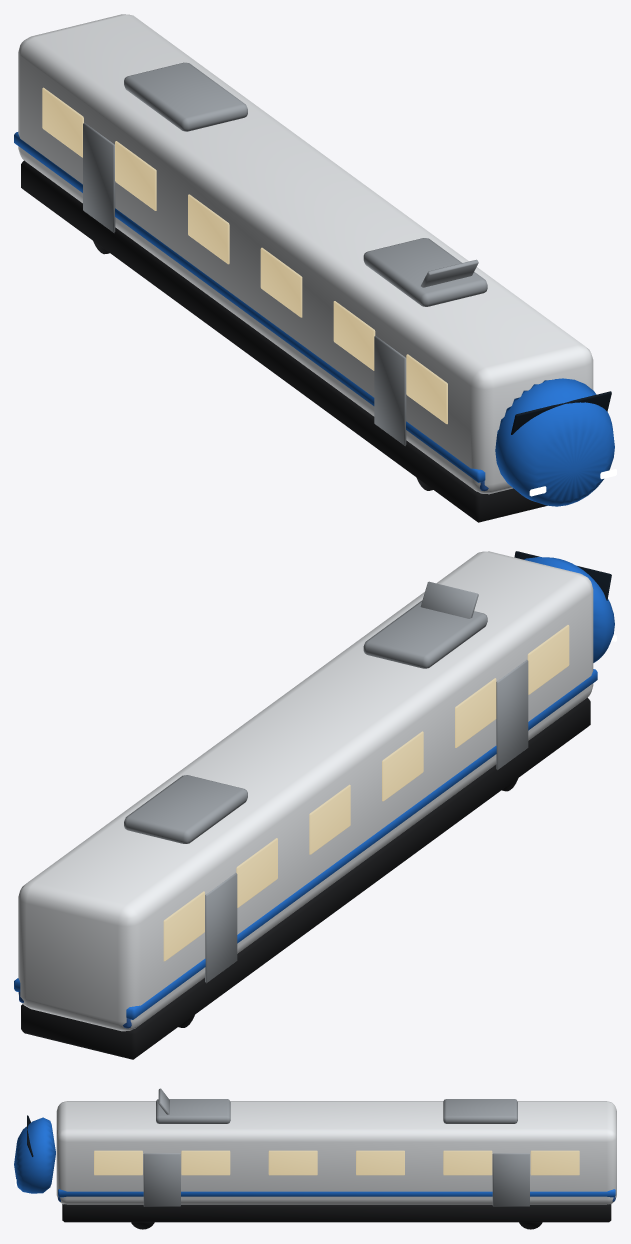
Rendered from metro_front.glb.
The picture shows the model from 3 angles, top to bottom: view 1: azimuth 30°, elevation 25°; view 2: azimuth 150°, elevation 25°; view 3: azimuth 270°, elevation 25°; orthographic projection. The views are drawn at different scales.
Parts seen in each view (by area): view 1: Shell, Skirt, Cab, RoofAC2, RoofAC1, Stripe, DoorL0, DoorL1, Win-12, Win-11, Win-10, Win-13 (+4 smaller); view 2: Shell, Skirt, RoofAC2, RoofAC1, Stripe, DoorL1, DoorL0, Cab, Win-10, Win-13, Win-12, Win-15 (+3 smaller); view 3: Shell, Skirt, Stripe, Cab, DoorR0, DoorR1, RoofAC2, RoofAC1, Win11, Win12, Win14, Win15 (+3 smaller).
Boxes of the visible parts, x1,y1,x2,y2 form: Shell: [18, 14, 593, 494]; Skirt: [21, 160, 547, 522]; Cab: [495, 378, 614, 506]; RoofAC2: [124, 62, 247, 131]; RoofAC1: [363, 238, 487, 306]; Stripe: [14, 132, 485, 482]; DoorL0: [374, 335, 406, 445]; DoorL1: [83, 122, 115, 232]; Win-12: [260, 247, 302, 317]; Win-11: [333, 301, 375, 370]; Win-10: [406, 354, 447, 424]; Win-13: [188, 194, 229, 264]; Shell: [18, 551, 593, 1031]; Skirt: [21, 697, 590, 1059]; RoofAC2: [124, 775, 247, 843]; RoofAC1: [363, 600, 487, 668]; Stripe: [14, 669, 597, 1019]; DoorL1: [205, 873, 237, 983]; DoorL0: [496, 660, 528, 769]; Cab: [524, 557, 614, 662]; Win-10: [527, 625, 569, 694]; Win-13: [309, 784, 350, 854]; Win-12: [382, 731, 423, 801]; Win-15: [163, 891, 204, 961]; Shell: [56, 1101, 616, 1204]; Skirt: [62, 1204, 611, 1222]; Stripe: [58, 1189, 615, 1197]; Cab: [14, 1117, 55, 1193]; DoorR0: [143, 1153, 180, 1206]; DoorR1: [492, 1153, 529, 1206]; RoofAC2: [443, 1099, 517, 1123]; RoofAC1: [156, 1099, 230, 1123]; Win11: [181, 1150, 230, 1175]; Win12: [268, 1150, 317, 1175]; Win14: [443, 1150, 492, 1175]; Win15: [530, 1150, 579, 1175].
Bounding box in the file's own units: 3 × 4.66 × 20.99.
